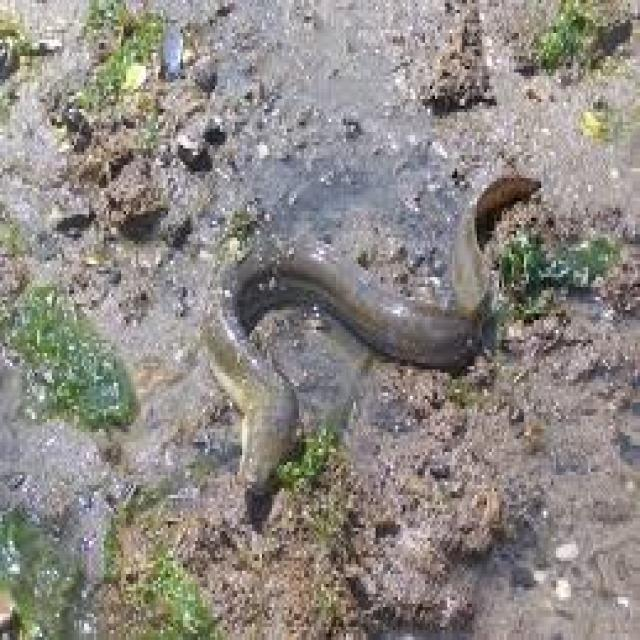Freshwater-Eel: (169, 115, 567, 493)
